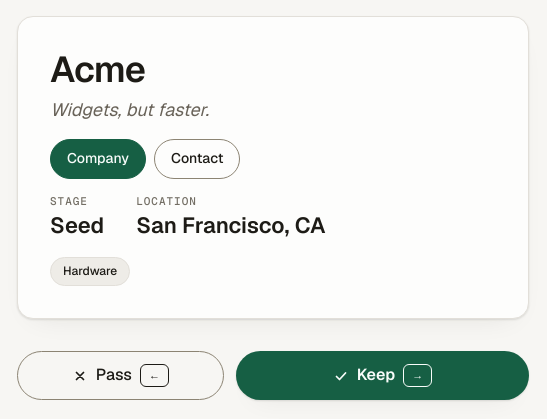
Test: the Deck › keeps a failed swipe on screen after the Deck runs out
This screenshot has width=547, height=419.
expect the heading "Acme" is shown: met, box [50,46,145,93]
Click the button "Pass ←" at coordinates (120, 376), box [17,351,224,400]
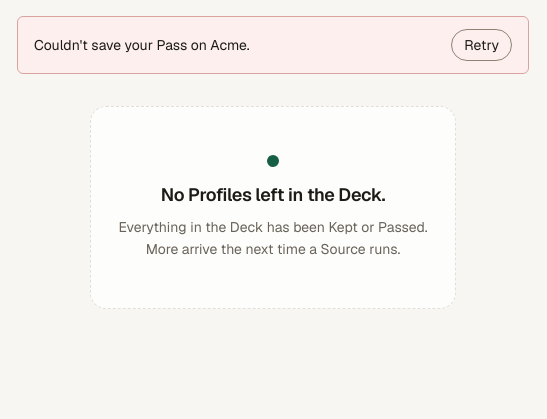
expect the text "No Profiles left in the Deck." is shown: met, box [161,183,385,208]
